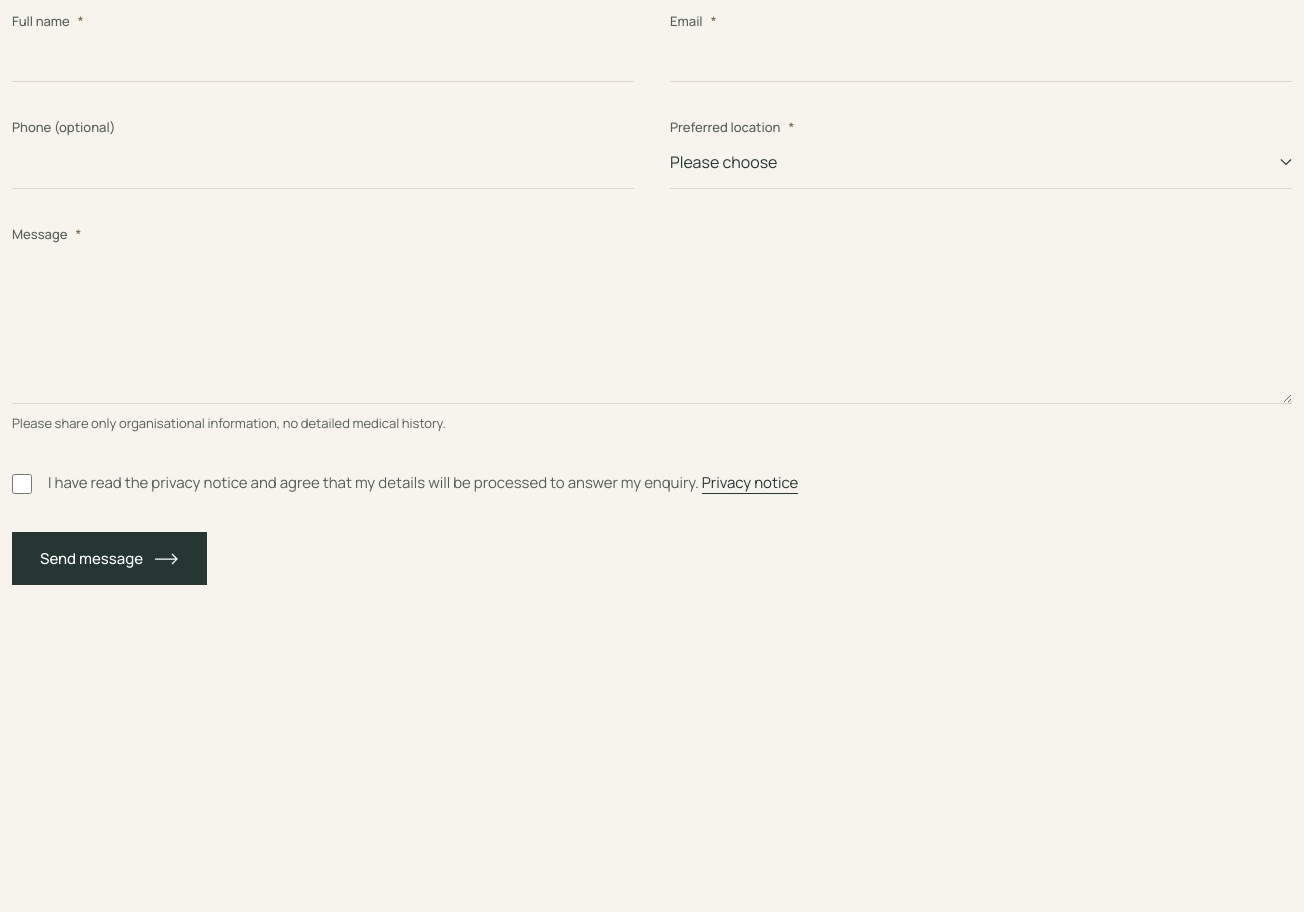
it: ContactForm › confirms delivery when the API succeeds
The image size is (1304, 912).
Type "Arta Krasniqi" into the field labelled "Full name *" at (323, 56), box [12,30,634,82]
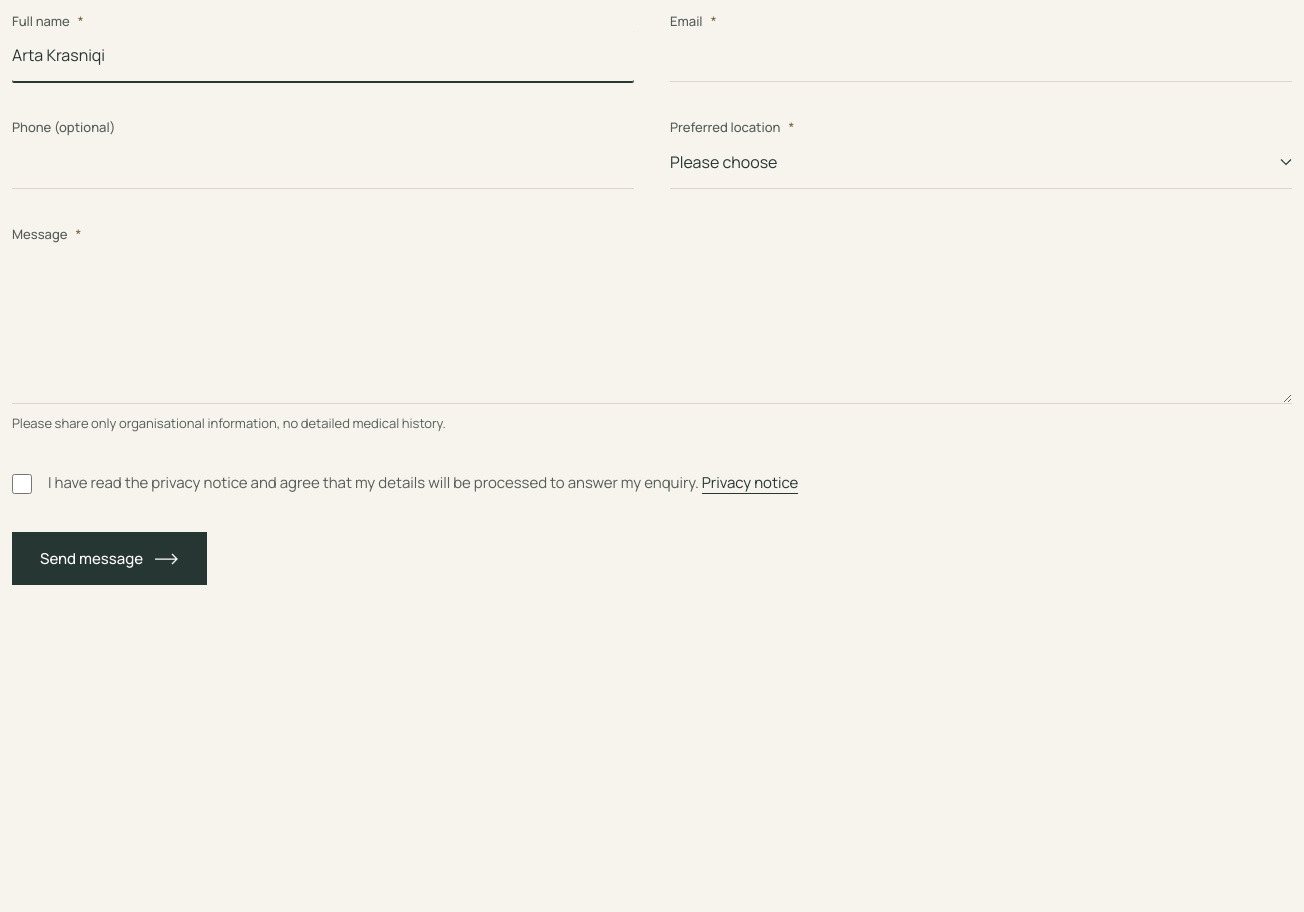
Type "arta@example.com" into the field labelled "Email *" at (981, 56), box [670,30,1292,82]
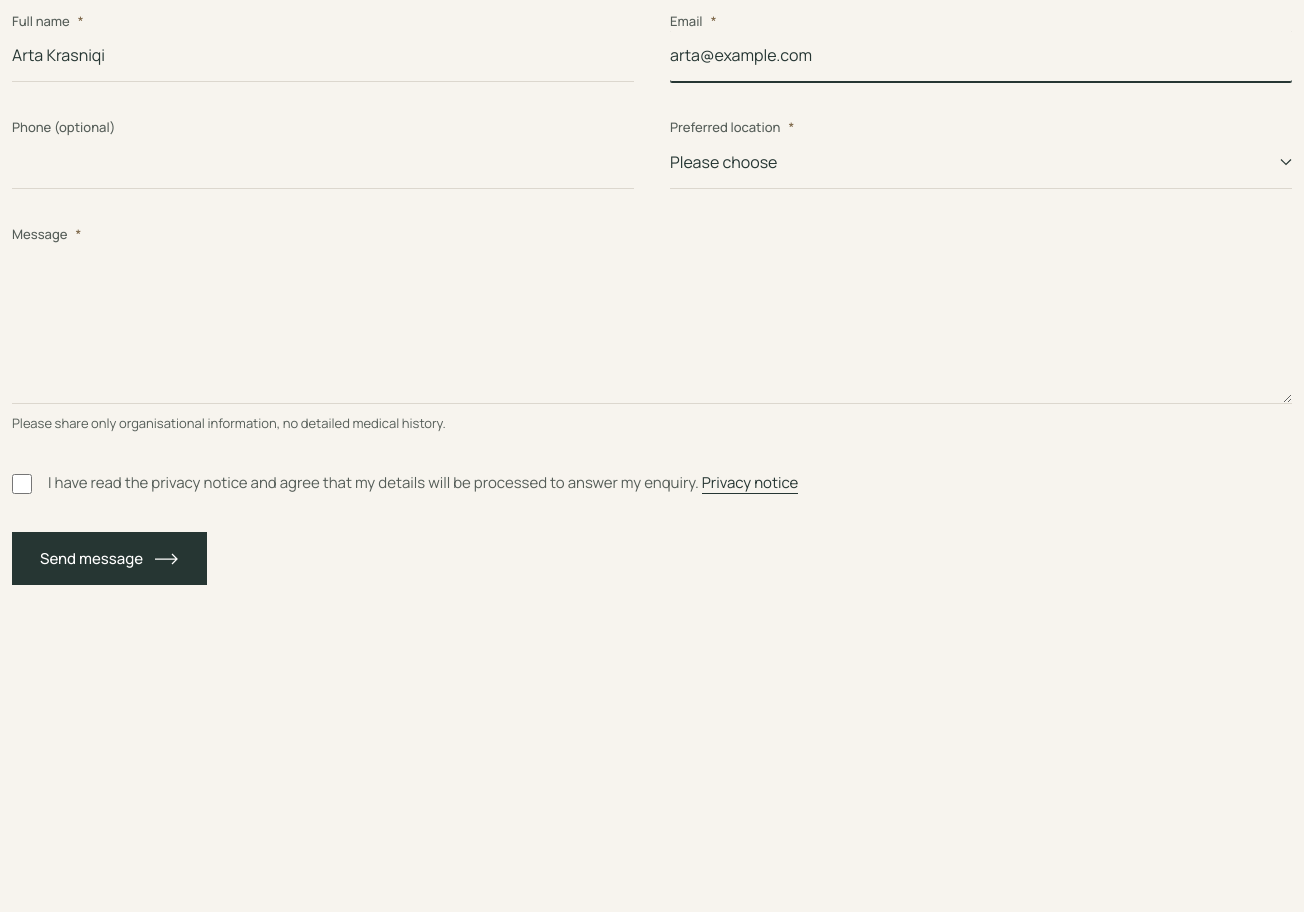
Select "Royal Medical – Prishtina" in the dropdown labelled "Preferred location *" at (981, 163), box [670,137,1292,189]
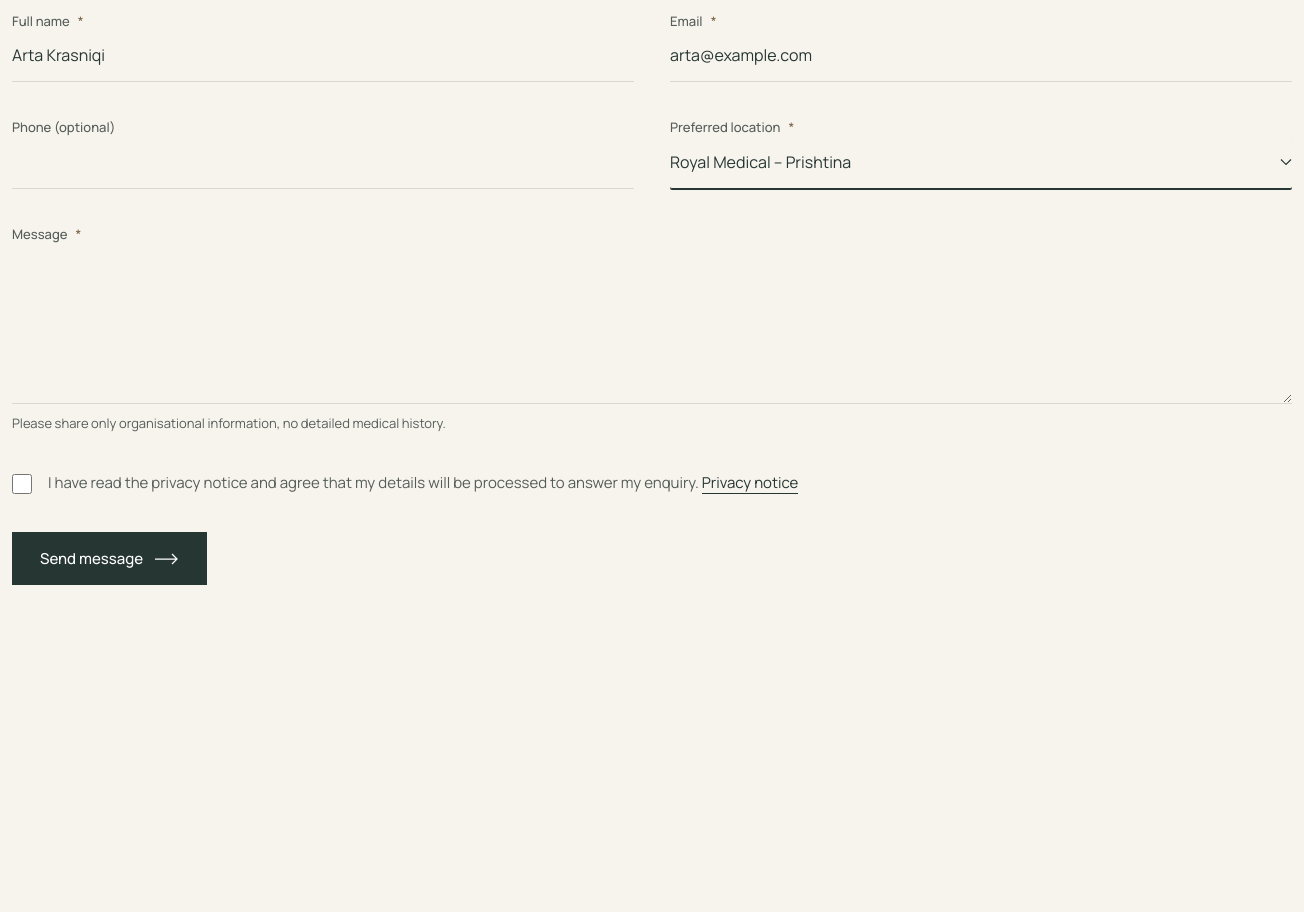
Type "I would like to book a consultation." into the text box labelled "Message *" at (652, 324), box [12,243,1292,404]
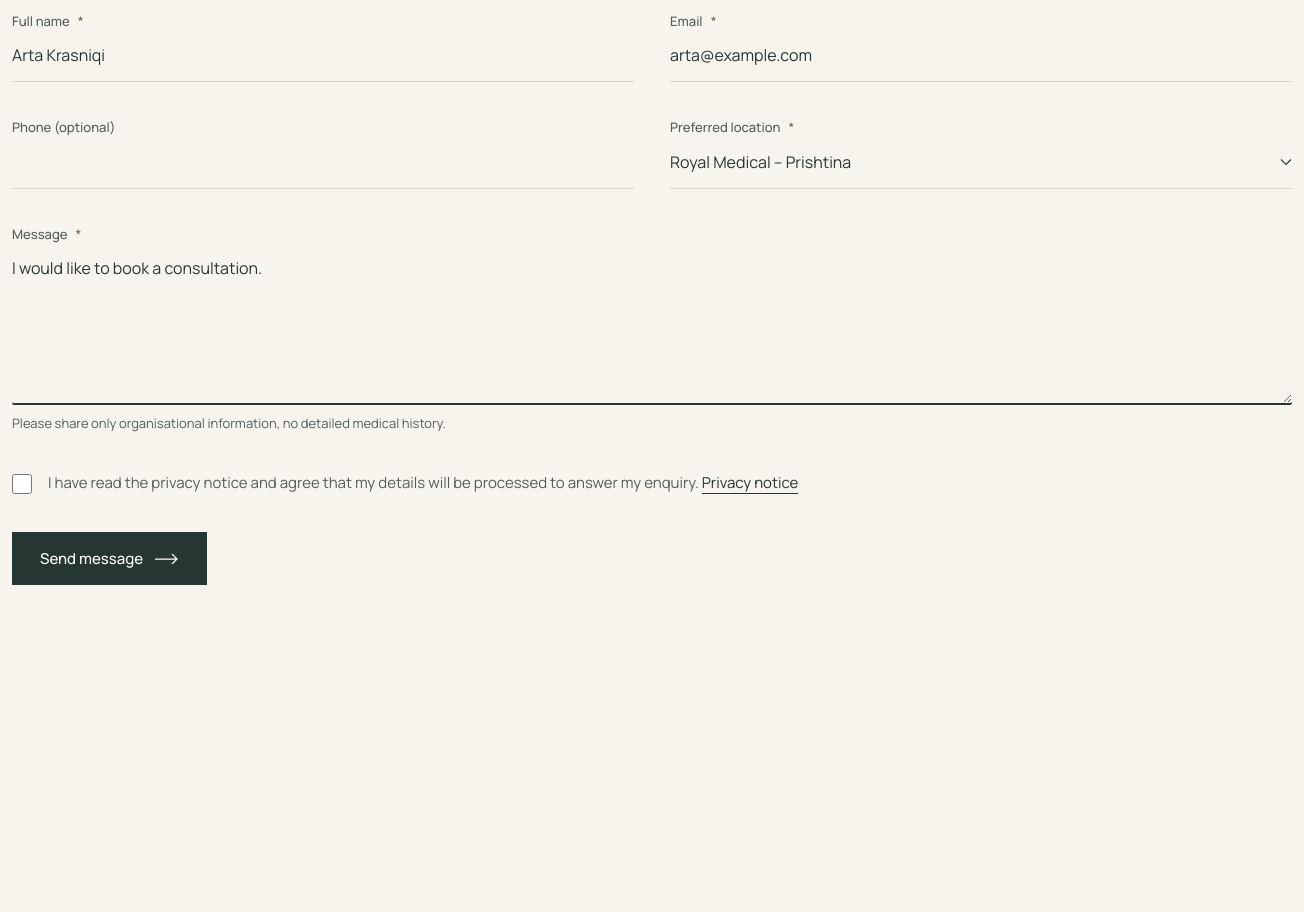
Click the checkbox at (22, 484), box [12,474,32,494]
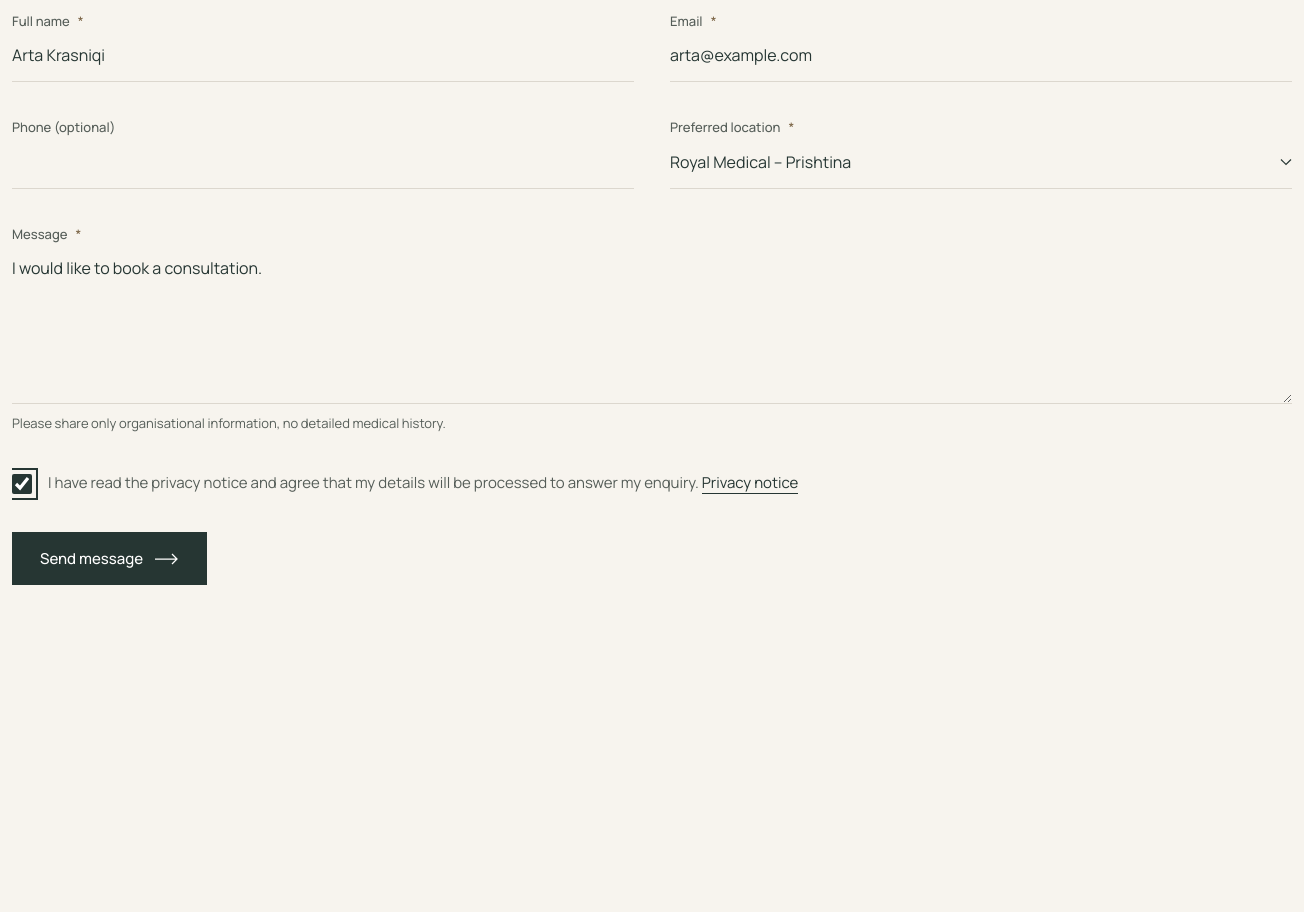
Click the button "Send message" at (110, 559), box [12,532,207,585]
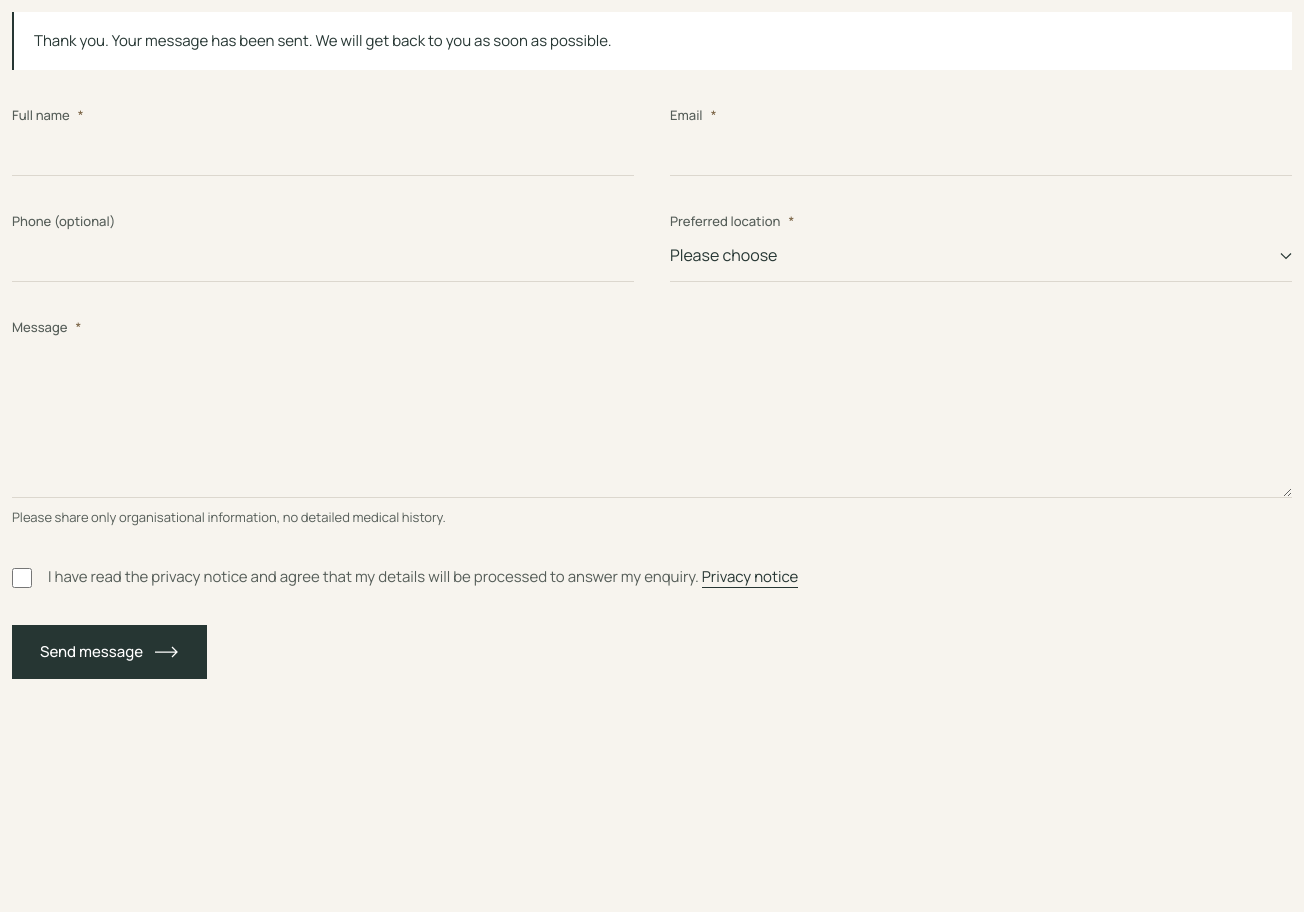
Now the text "Your message has been sent" is shown, box [34,30,612,51]
